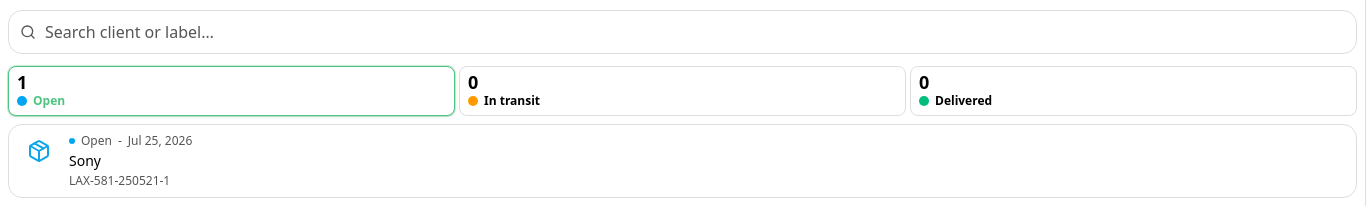
ShipmentListPanel › searches and clears shipment results
This screenshot has width=1366, height=223.
Expected: the text "Sony" is shown, x1=69 y1=151 x2=101 y2=171
Type "zzz" into the field named "Search shipments" at (682, 32), box x1=8 y1=10 x2=1357 y2=54
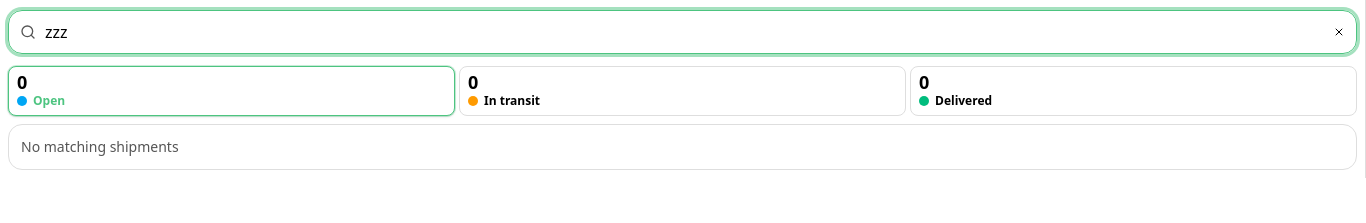
Expected: the text "No matching shipments" is shown, x1=21 y1=137 x2=179 y2=156
Click the button named "Clear shipment search" at (1339, 32), box x1=1327 y1=20 x2=1351 y2=44
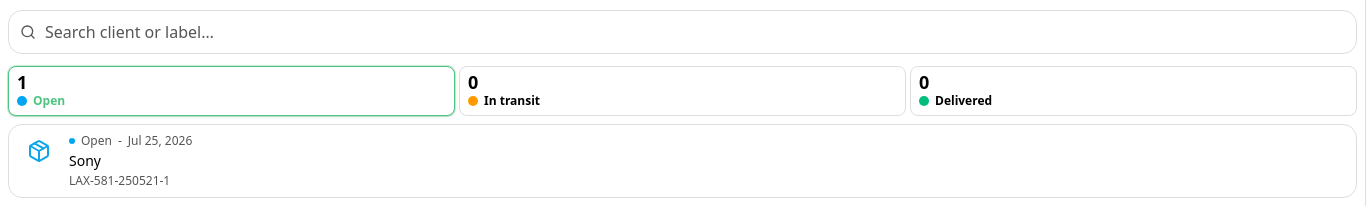
Expected: the text "Sony" is shown, x1=69 y1=151 x2=101 y2=171
